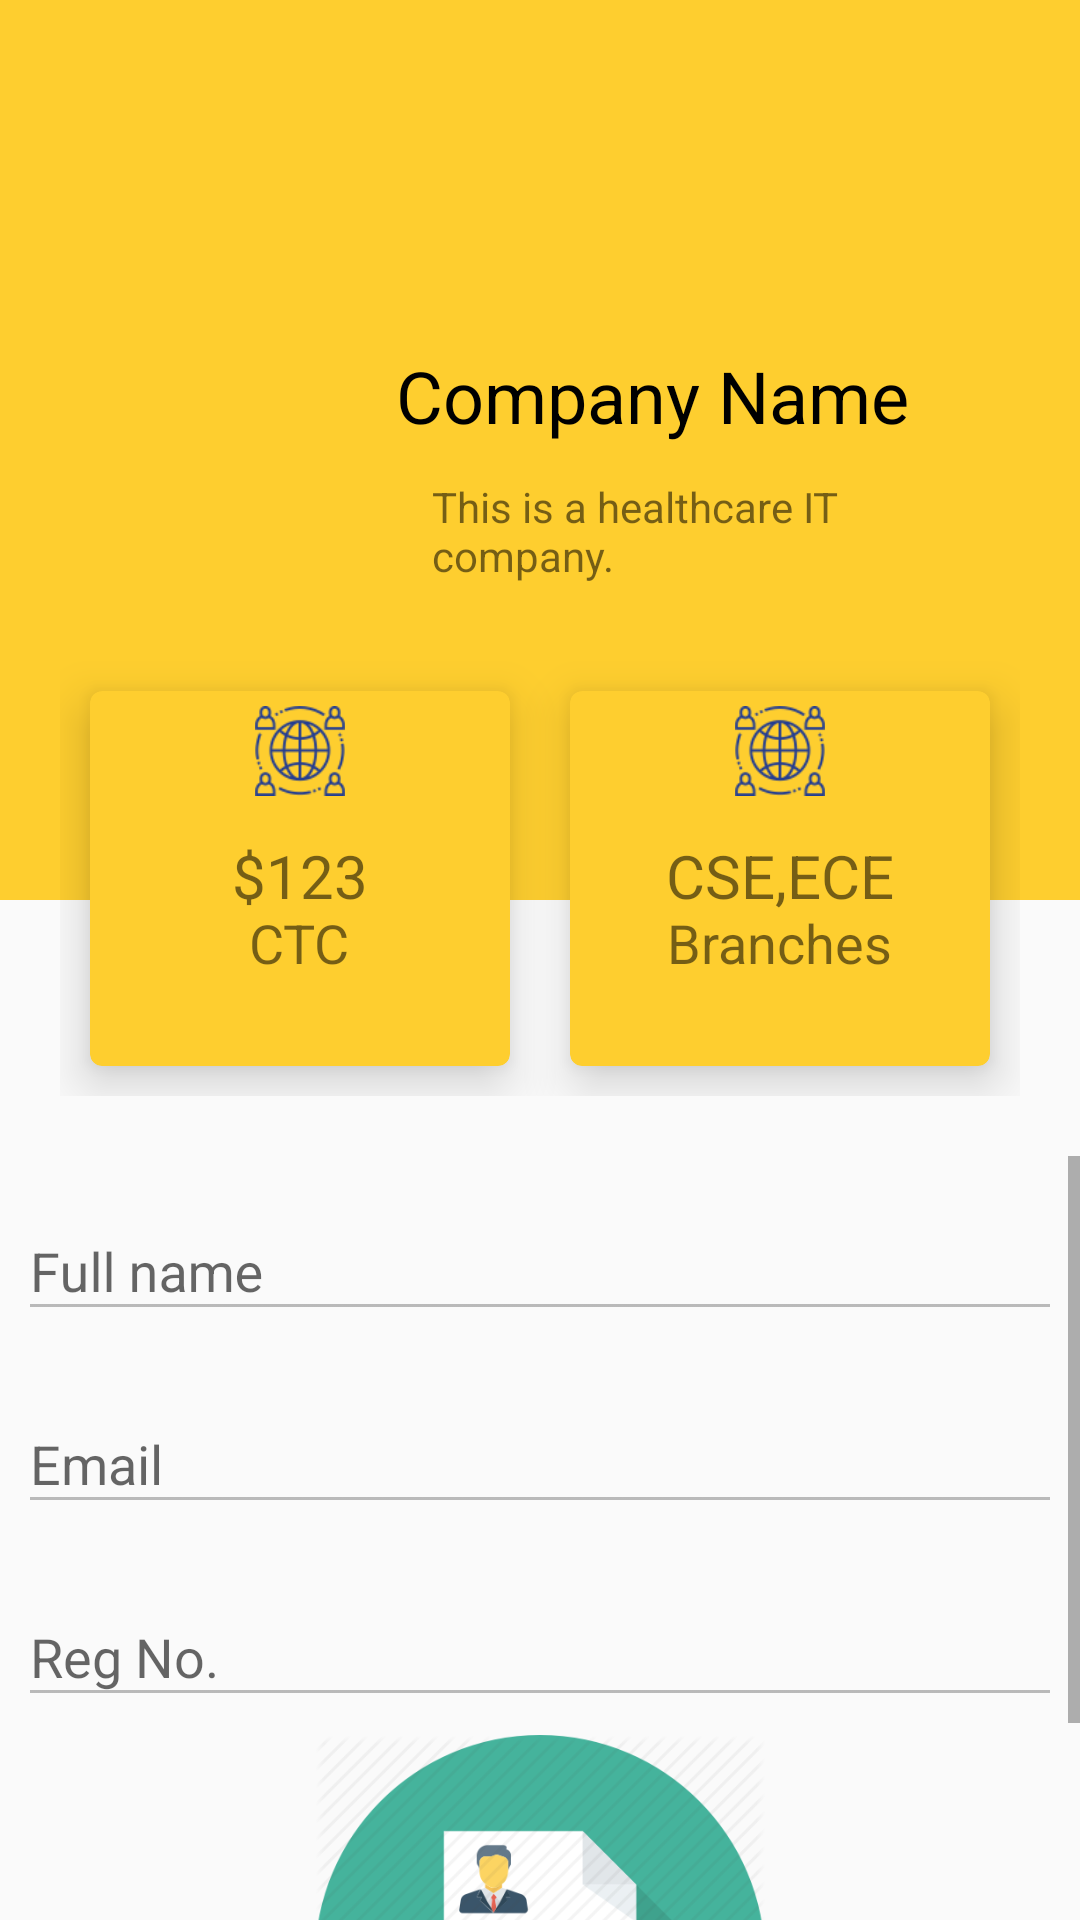

Screen size 1080 x 1920. Icon name, then its center in pixels as (x=x, y=y):
outsourcing: (x=300, y=751), (x=780, y=751)
